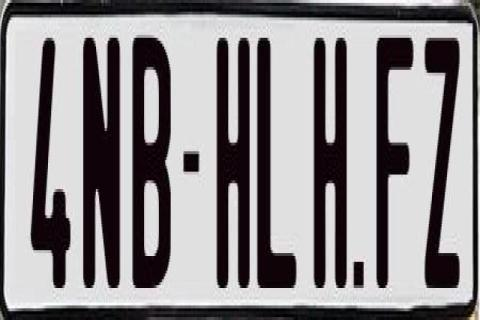0: (28, 29, 69, 279)
B: (132, 38, 176, 294)
F: (376, 38, 418, 300)
H: (214, 35, 249, 297), (312, 29, 346, 282)
L: (255, 35, 298, 294)
N: (82, 32, 120, 300)
Z: (423, 29, 461, 297)
